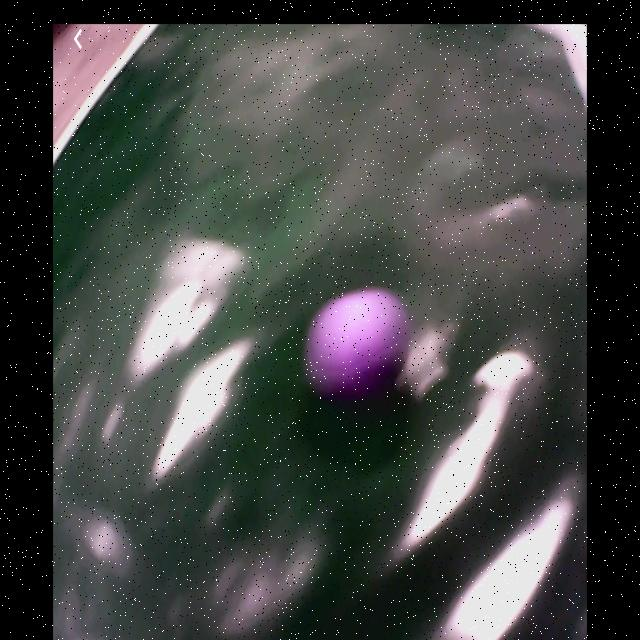ball: (305, 287, 414, 402)
